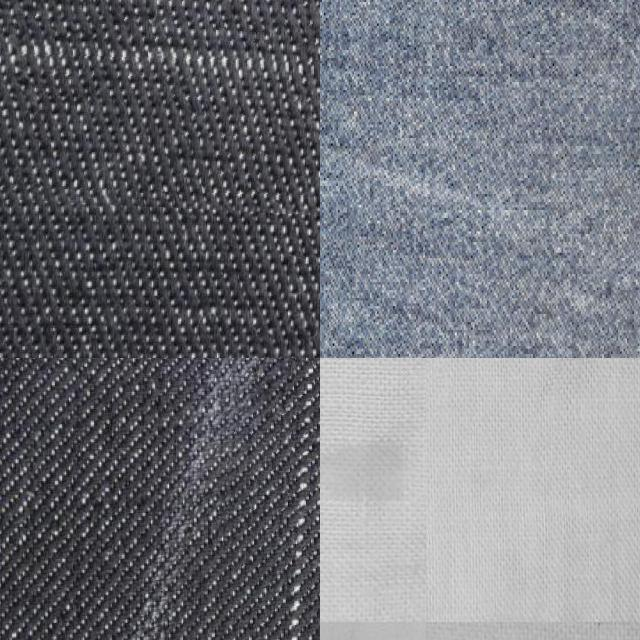Thread_other: (208, 358, 320, 640)
